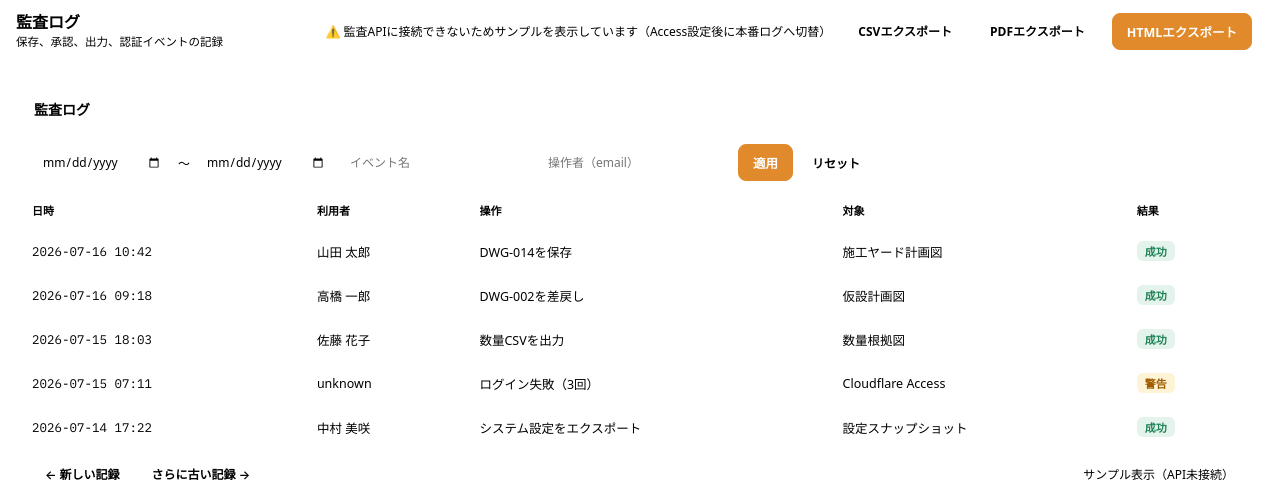
AuditLogPage › 監査ログを表示し、CSV/PDF/HTMLエクスポートを生成する
expect the text "保存、承認、出力、認証イベントの記録" is shown: met, box top-left (16, 33), bottom-right (223, 49)
expect the text "DWG-014を保存" is shown: met, box top-left (463, 229), bottom-right (826, 273)
Click the button "CSVエクスポート". click: [905, 31]
box: top-left (847, 16), bottom-right (963, 46)
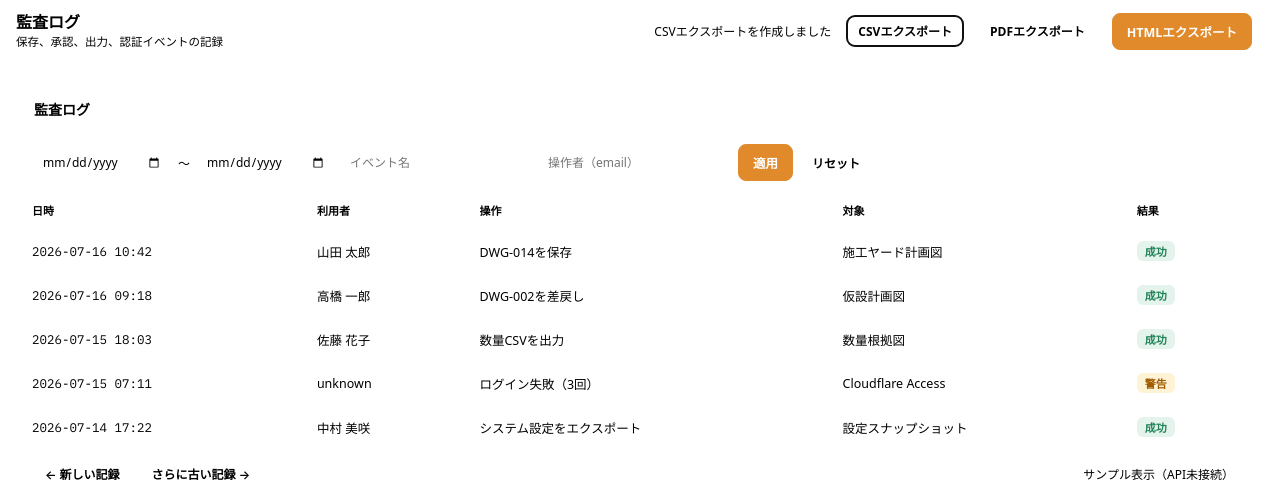
Click the button "PDFエクスポート". click: [1037, 31]
box: top-left (979, 16), bottom-right (1096, 46)
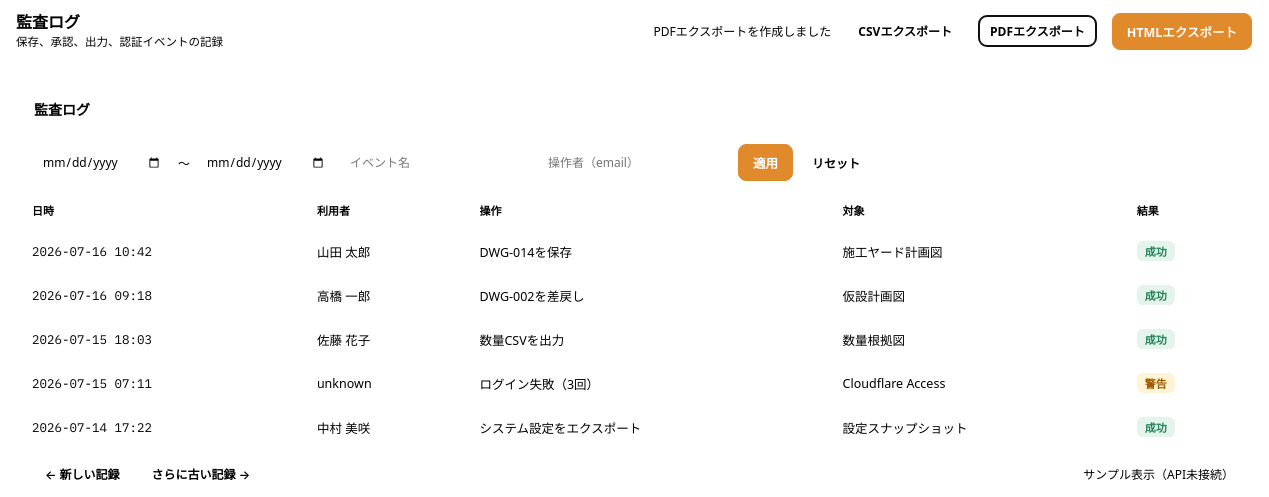
Click the button "HTMLエクスポート". click: [1182, 31]
box: top-left (1112, 12), bottom-right (1252, 50)
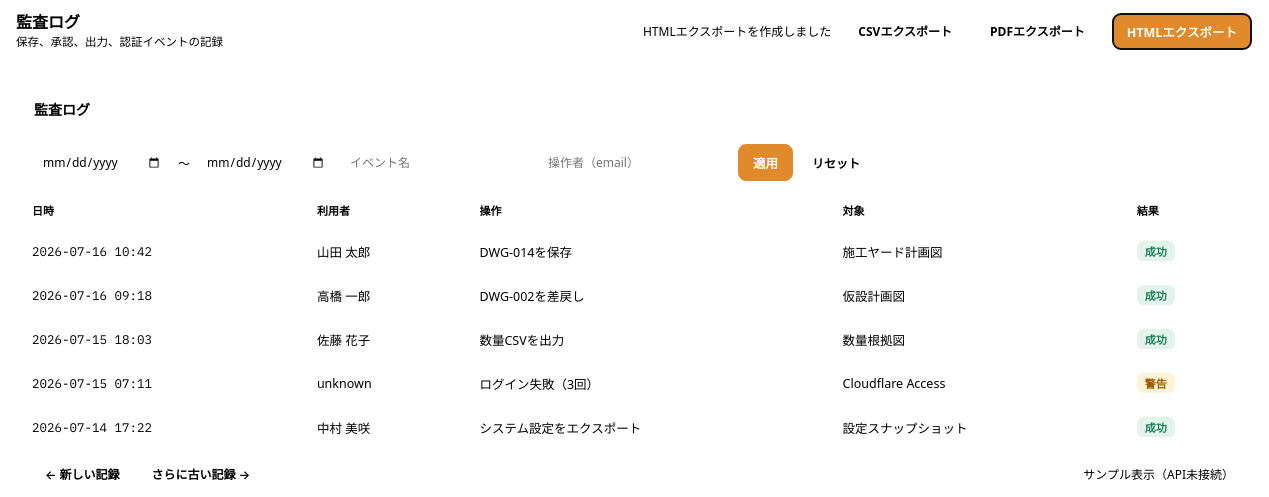
expect the text "HTMLエクスポートを作成しました" is shown: met, box top-left (643, 22), bottom-right (831, 40)
